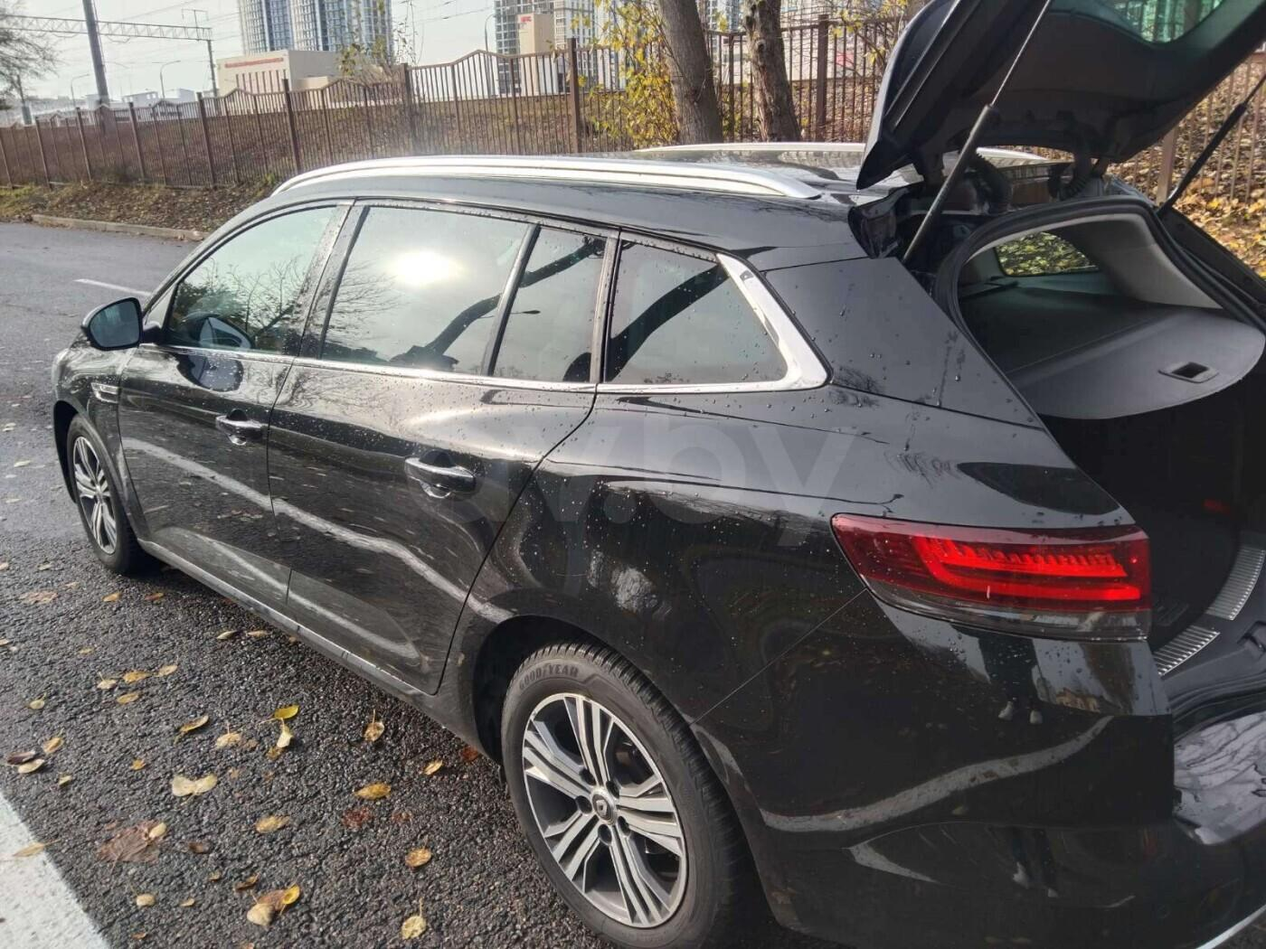Megane_2020: (48, 146, 1266, 949)
